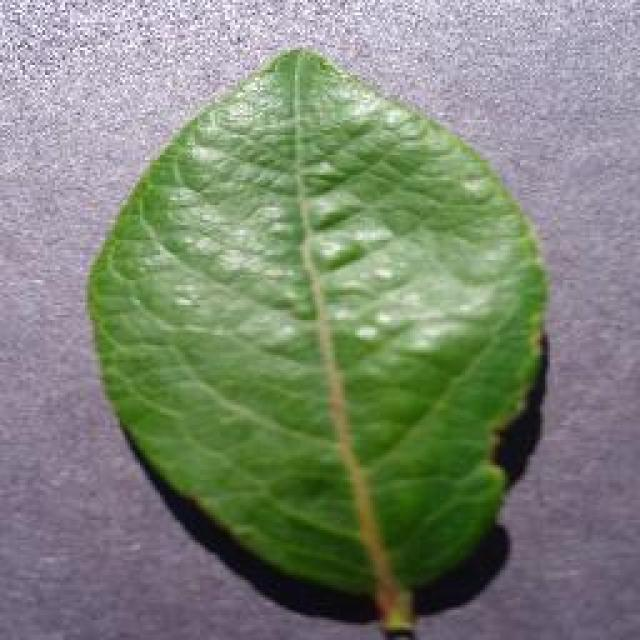Blu_healthy: (114, 155, 518, 479)
